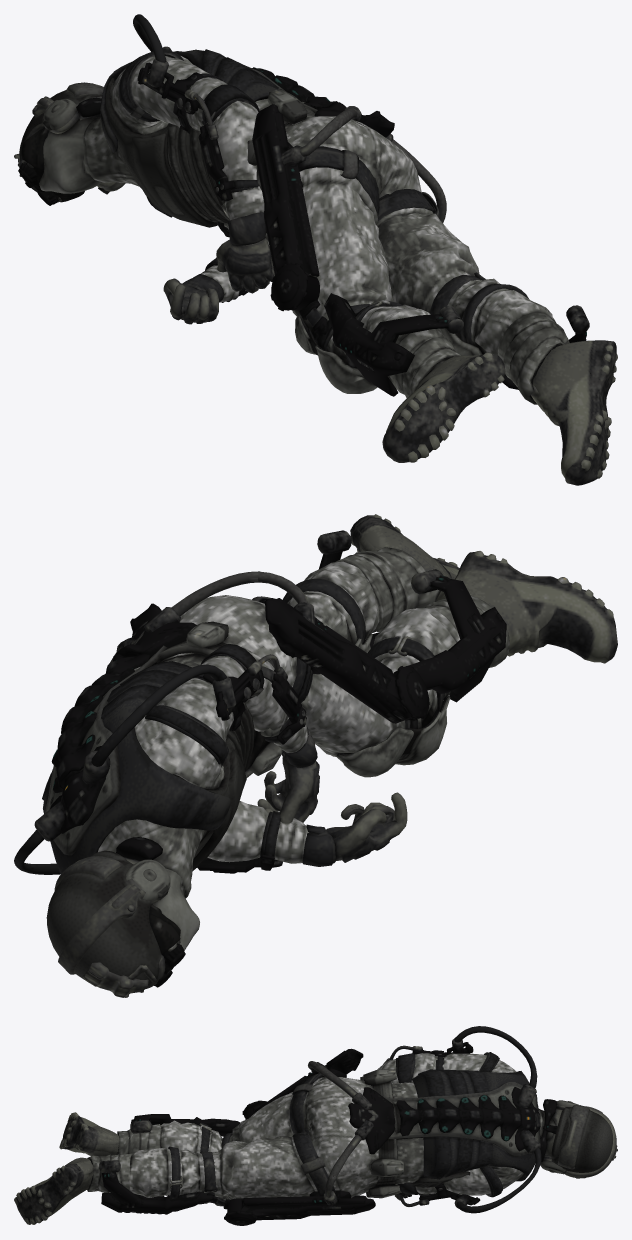
File: Marine.glb
3 views of the same model, one above another, from view 1: azimuth 30°, elevation 25°; view 2: azimuth 150°, elevation 25°; view 3: azimuth 270°, elevation 25° (orthographic). The views are drawn at different scales.
Parts seen in each view (by area): view 1: Ch15; view 2: Ch15; view 3: Ch15.
Part boxes in pixels (x1,y1,x2,y2): Ch15: [14, 14, 617, 485]; Ch15: [14, 514, 617, 997]; Ch15: [14, 1026, 617, 1225].
Bounding box in the file's own units: 62.47 × 53.61 × 182.
Materials: 2 (2 with a texture image).
